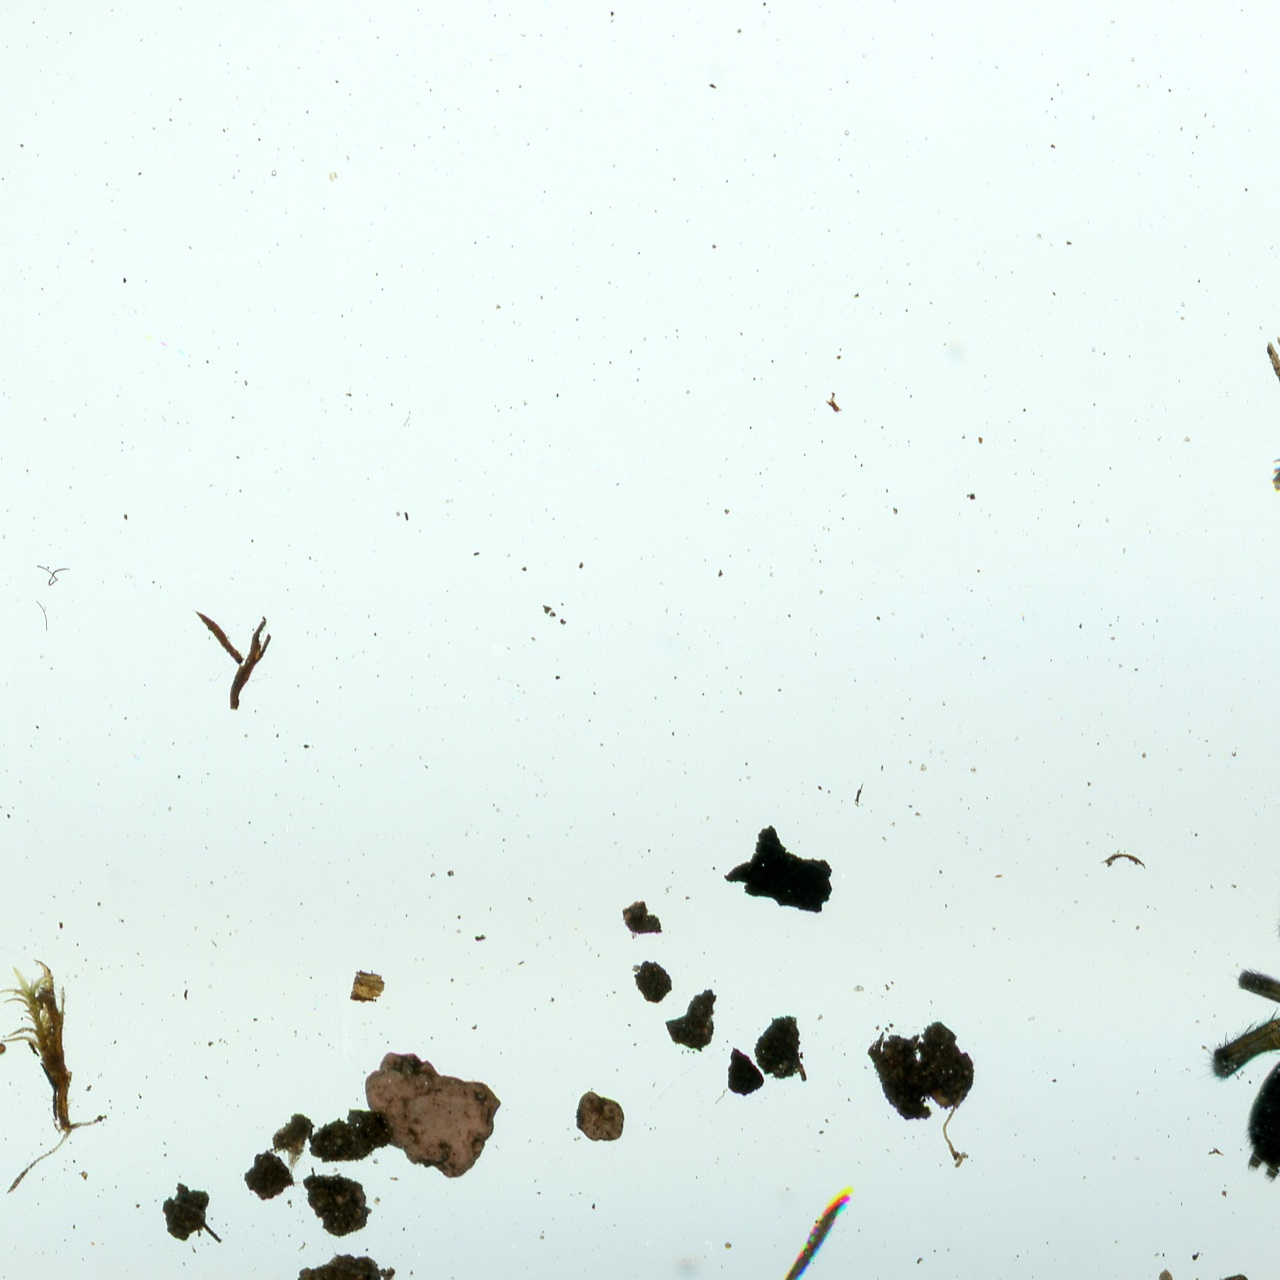arthropod: (1189, 859, 1280, 1186), (1267, 445, 1280, 495)
